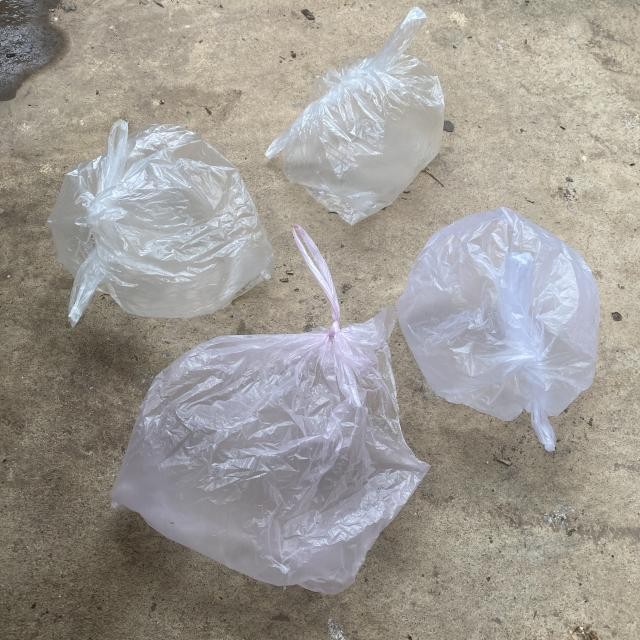Single-layer Plastic: (111, 225, 429, 594), (398, 208, 600, 451), (46, 120, 274, 326), (266, 8, 444, 225)
